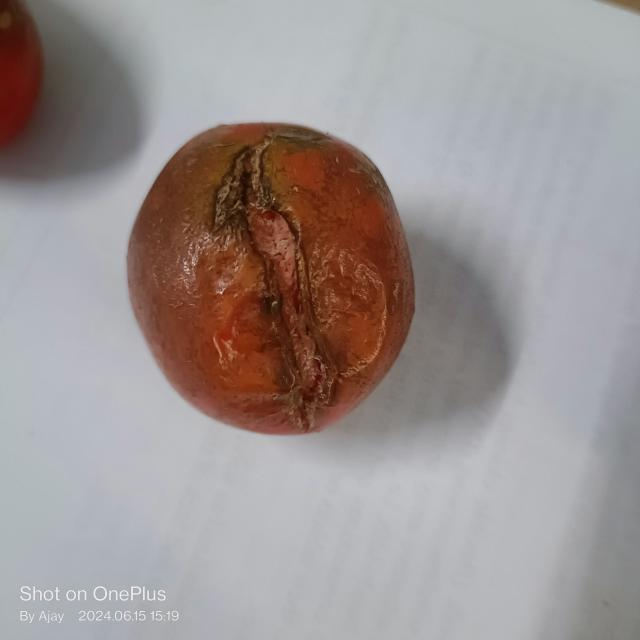tomato_cracking: (206, 132, 333, 421)
